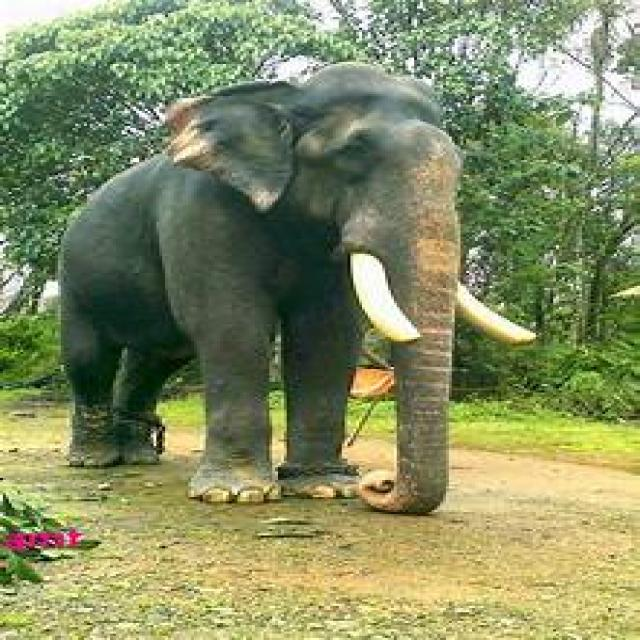elephant: (58, 62, 507, 518)
